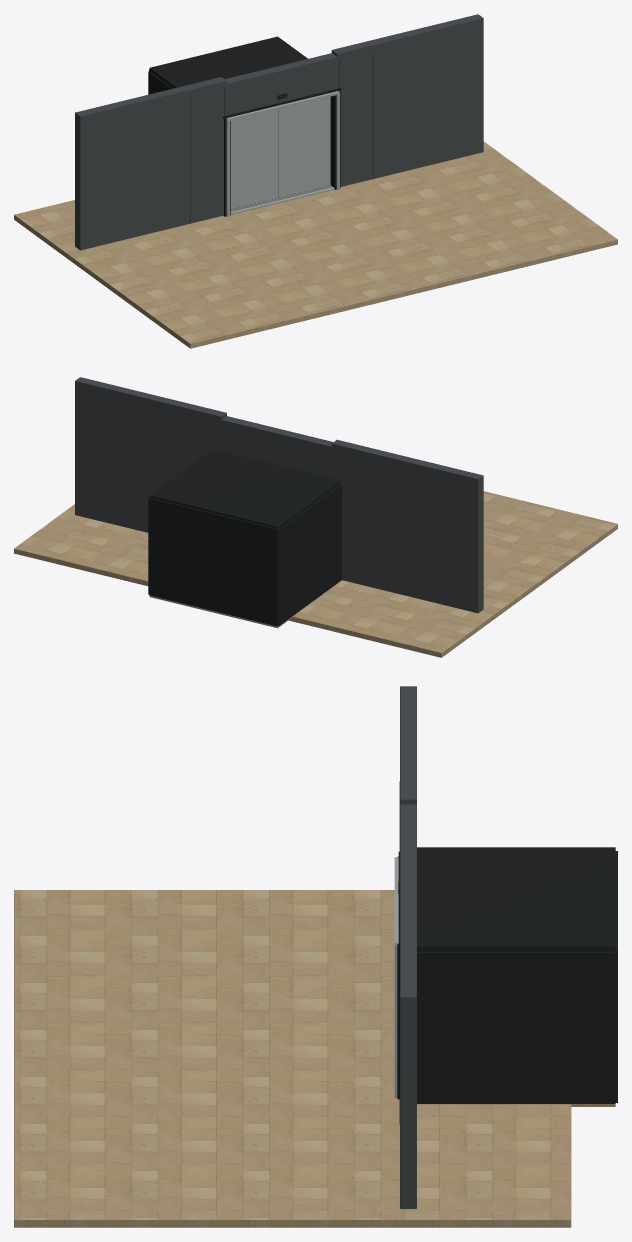
Rendered from elevator.glb.
3 renders of one model, top to bottom at view 1: azimuth 30°, elevation 25°; view 2: azimuth 150°, elevation 25°; view 3: azimuth 270°, elevation 25°, orthographic. The views are drawn at different scales.
Visible parts, largest first — view 1: LobbyFloor, Lobby_Left, Lobby_Right, Door_Right, Door_Left, Lobby_Top, Ceiling, Portal_Reveal.001, Sill, Portal_Header; view 2: LobbyFloor, Lobby_Left, Lobby_Right, Rear_Wall, Ceiling, Side_Base, Lobby_Top; view 3: LobbyFloor, Side_Base.001, Ceiling, Lobby_Right, Lobby_Left, Lobby_Top, Rear_Wall.
Boxes of the visible parts, x1,y1,x2,y2 form: LobbyFloor: (14, 141, 617, 348); Lobby_Left: (75, 77, 226, 250); Lobby_Right: (331, 14, 483, 186); Door_Right: (278, 96, 330, 197); Door_Left: (230, 109, 278, 209); Lobby_Top: (221, 53, 342, 119); Ceiling: (149, 36, 307, 88); Portal_Reveal.001: (330, 90, 340, 189); Sill: (230, 185, 334, 214); Portal_Header: (226, 91, 339, 120); LobbyFloor: (14, 491, 617, 657); Lobby_Left: (331, 439, 483, 613); Lobby_Right: (75, 377, 226, 532); Rear_Wall: (149, 497, 277, 626); Ceiling: (149, 449, 340, 529); Side_Base: (278, 484, 341, 625); Lobby_Top: (215, 416, 333, 478); LobbyFloor: (14, 890, 571, 1227); Side_Base.001: (417, 951, 615, 1103); Ceiling: (417, 847, 615, 951); Lobby_Right: (400, 884, 416, 1208); Lobby_Left: (400, 686, 416, 804); Lobby_Top: (400, 804, 416, 884); Rear_Wall: (612, 851, 617, 1102).
Bounding box in the file's own units: 14 × 4.38 × 10.84.
Materials: 10 (2 with a texture image).
